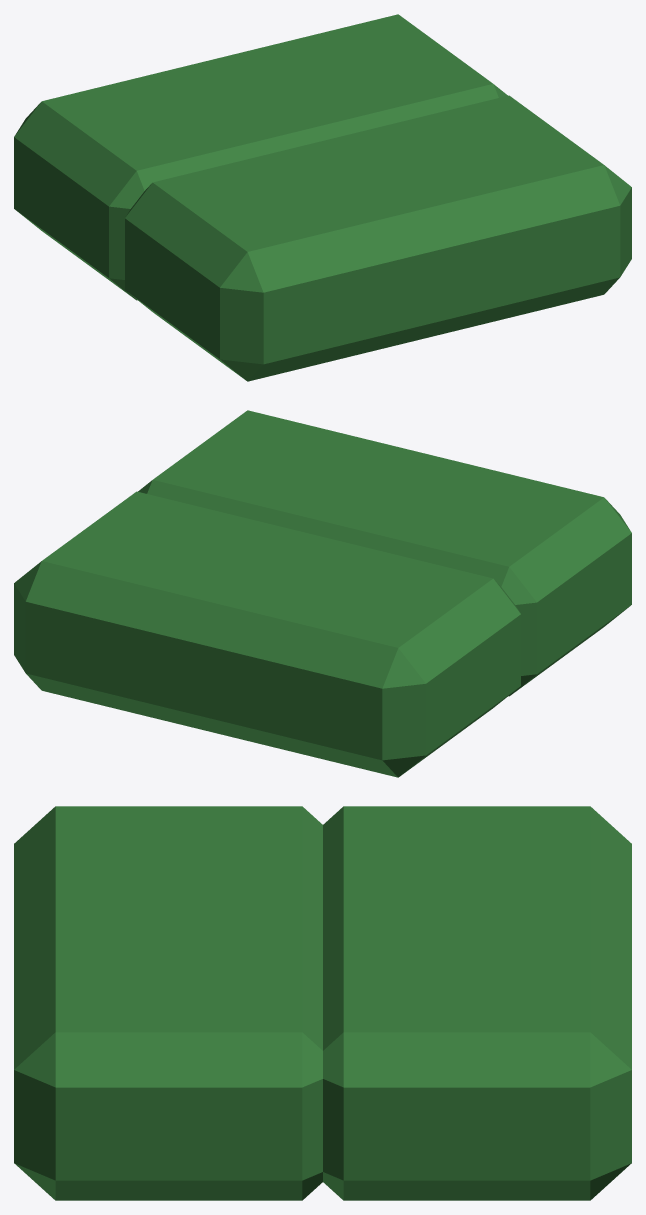
The model's file is m_kub_dung_flat_twoBrick.fbx.
The picture shows the model from 3 angles, top to bottom: view 1: azimuth 30°, elevation 25°; view 2: azimuth 150°, elevation 25°; view 3: azimuth 270°, elevation 25°; orthographic projection. The views are drawn at different scales.
Visible parts, largest first — view 1: m_kub_dung_flat_twoBrick; view 2: m_kub_dung_flat_twoBrick; view 3: m_kub_dung_flat_twoBrick.
Part boxes in pixels (<box>): m_kub_dung_flat_twoBrick: <box>14,14,631,381</box>; m_kub_dung_flat_twoBrick: <box>14,410,631,777</box>; m_kub_dung_flat_twoBrick: <box>14,806,631,1200</box>.
Bounding box in the file's own units: 2.15 × 0.6454 × 2.15.
